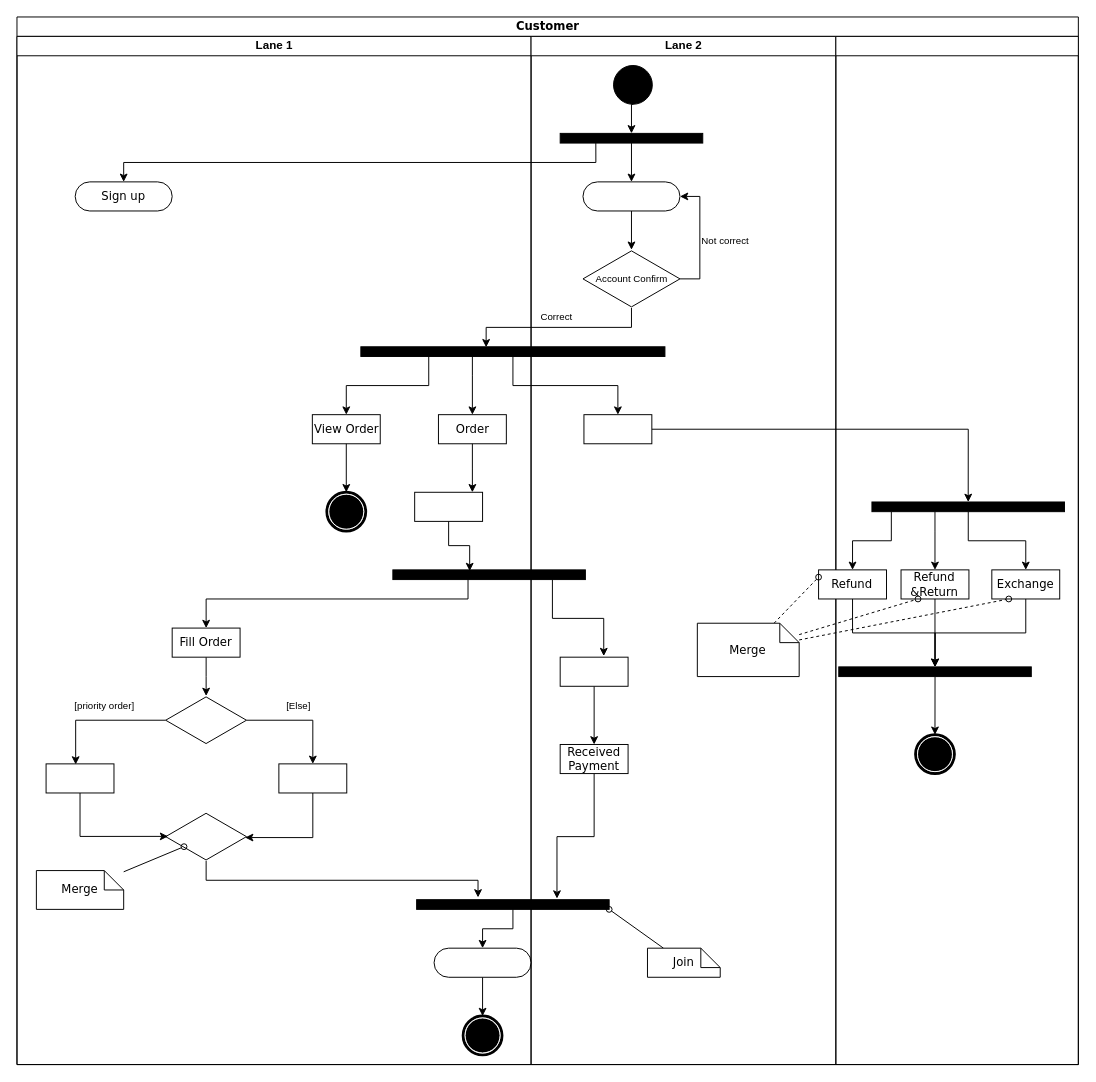
Image size: 1096x1082. Some labels were removed from this diagram. The box of each missing label's shape, as (x1, y1, x2, y2) in pixels:
Close Order: (433, 947, 531, 977)
Lane 3: (835, 35, 1078, 1065)
Log in: (582, 181, 680, 211)
Overnight Delivery: (45, 763, 114, 793)
Received Order: (414, 491, 483, 521)
Regular Delivery: (278, 763, 347, 793)
Return /Replace: (583, 414, 652, 444)
Send Invoice: (559, 656, 628, 686)
